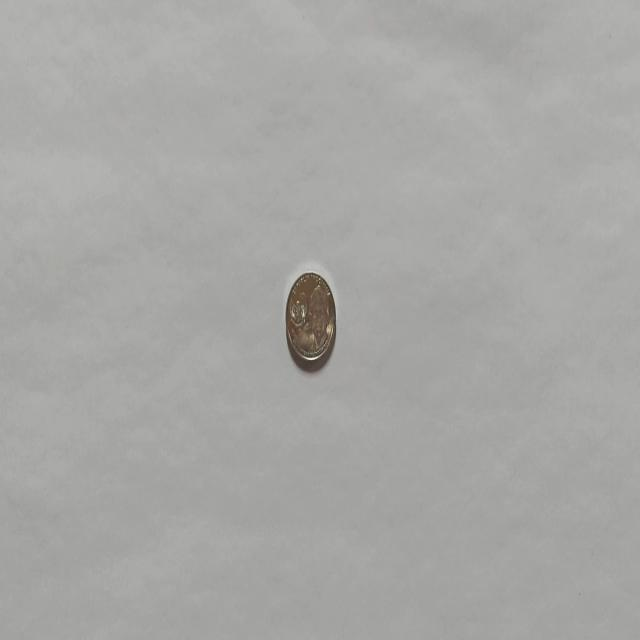dua ratus rupiah: (284, 269, 336, 370)
